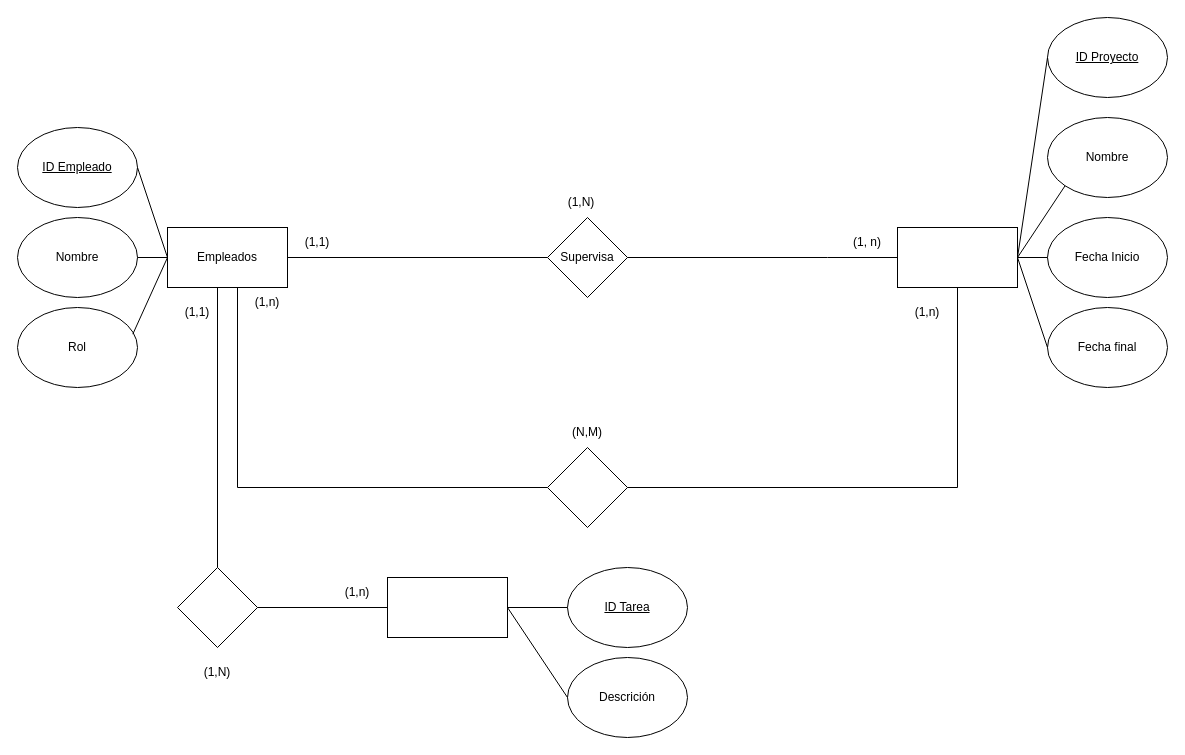
Image size: 1185x755. Some labels were removed from this diagram. The shapes that lost their labels are listed below. From the top down, each one's centre as x and y in pixels, then its label:
(x=957, y=257): Proyectos
(x=587, y=487): Contiene
(x=217, y=607): Se le asigna
(x=447, y=607): Tareas
